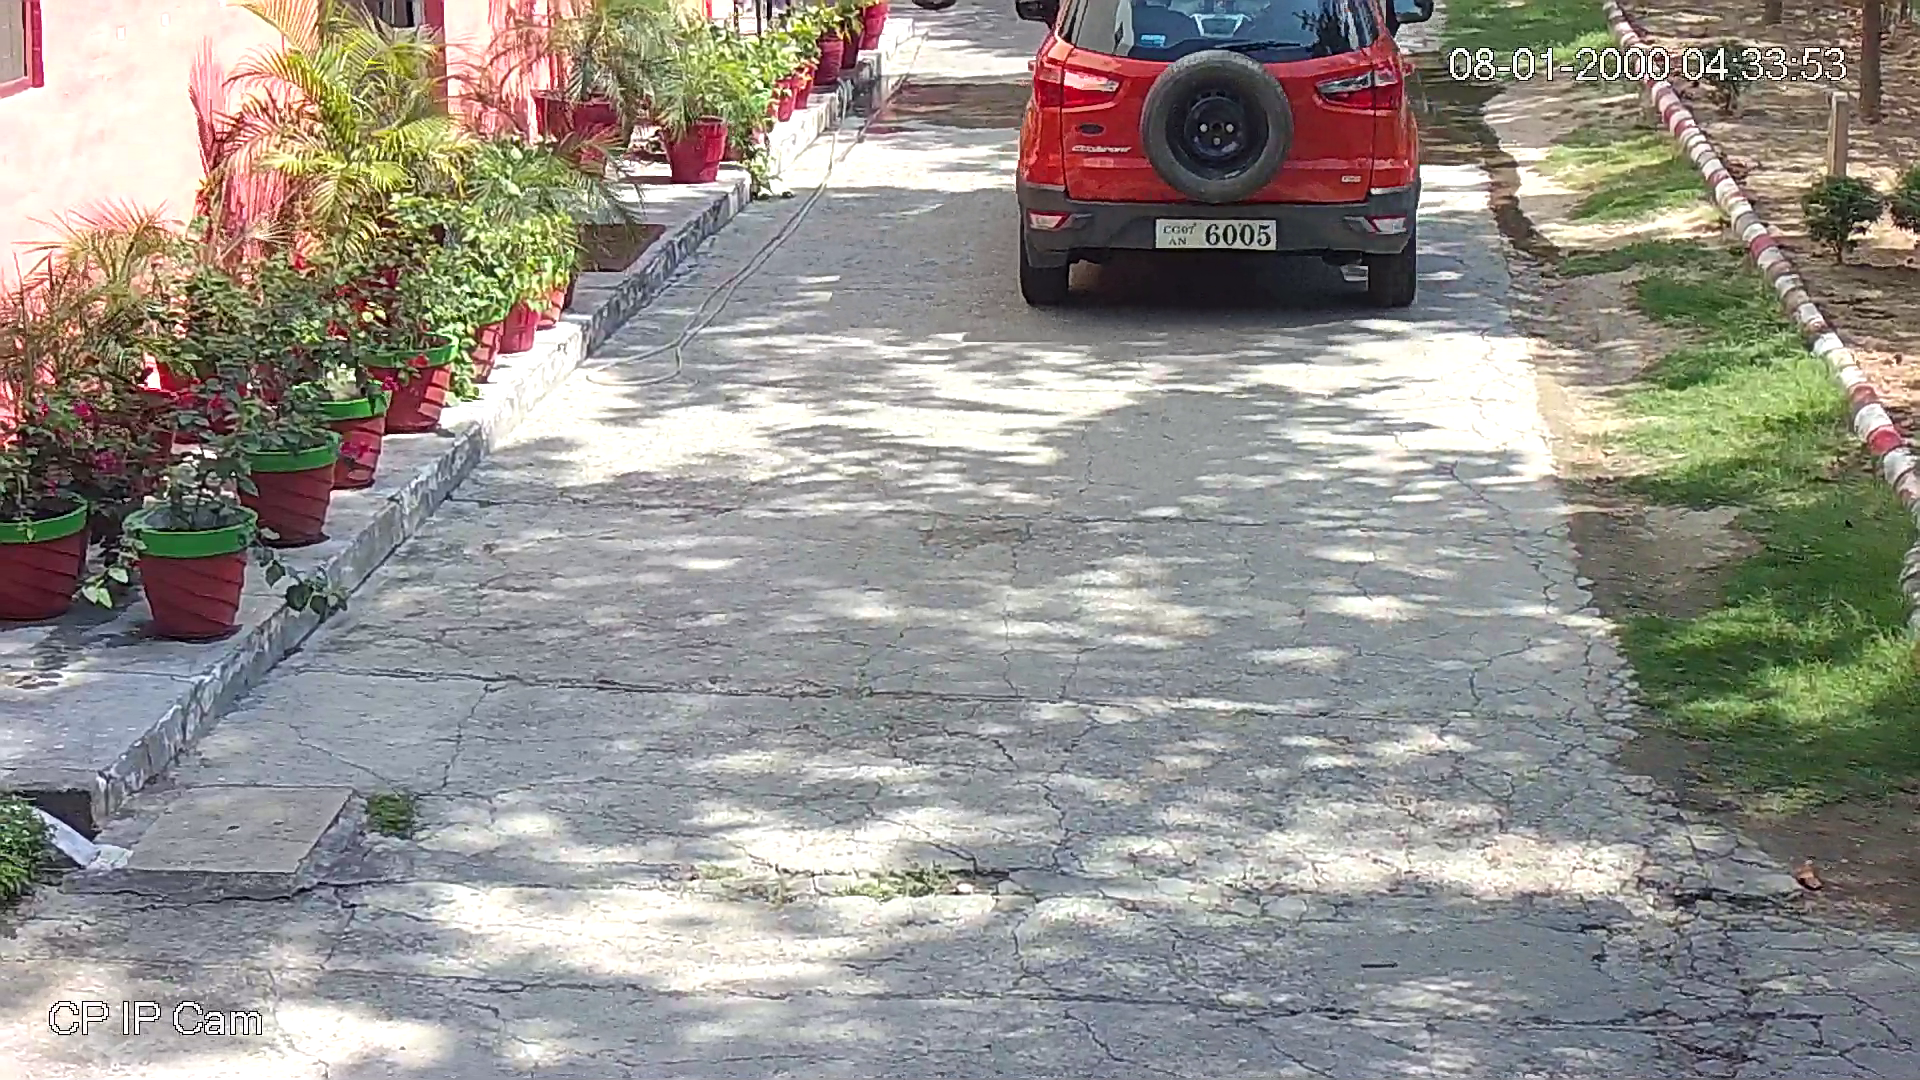plate: (1150, 219, 1281, 252)
